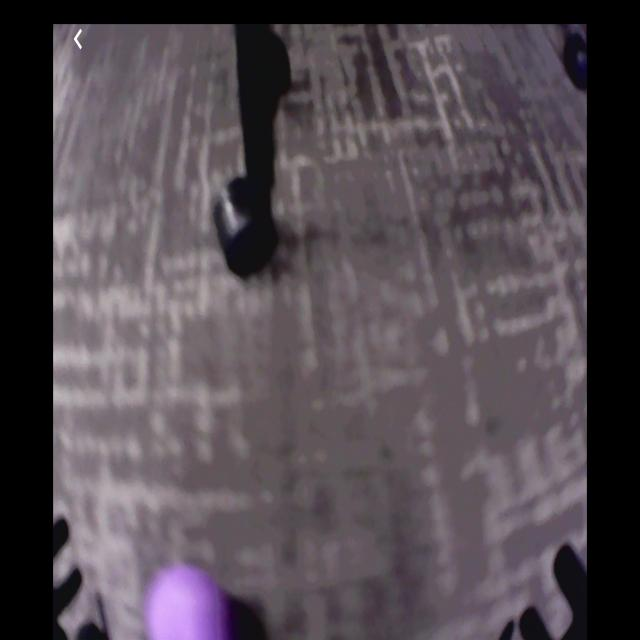ball: (145, 563, 236, 640)
